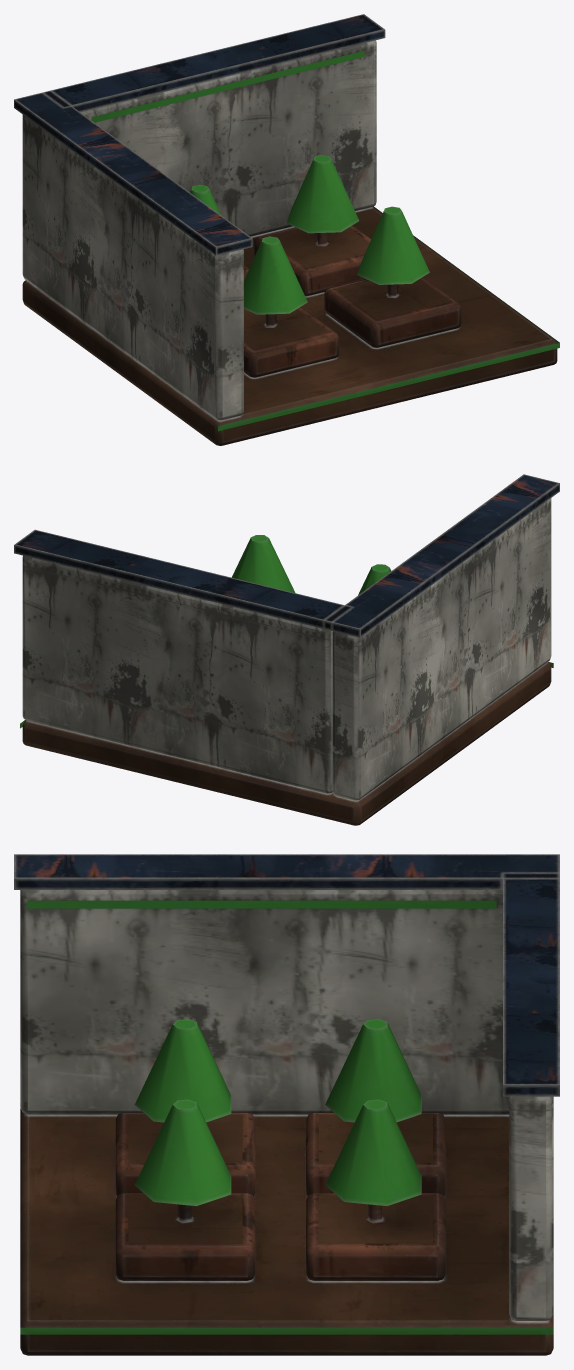
The model's file is botanical_garden.glb.
3 renders of one model, top to bottom at view 1: azimuth 30°, elevation 25°; view 2: azimuth 150°, elevation 25°; view 3: azimuth 270°, elevation 25°, orthographic. The views are drawn at different scales.
Parts seen in each view (by area): view 1: te_botanical_garden; view 2: te_botanical_garden; view 3: te_botanical_garden.
Boxes of the visible parts, bbox=[...] form: te_botanical_garden: bbox=[14, 14, 559, 445]; te_botanical_garden: bbox=[14, 474, 559, 825]; te_botanical_garden: bbox=[14, 854, 559, 1355].
Size of the model in its own units: 0.86 by 0.48 by 0.86.
1 material, 1 textured.
